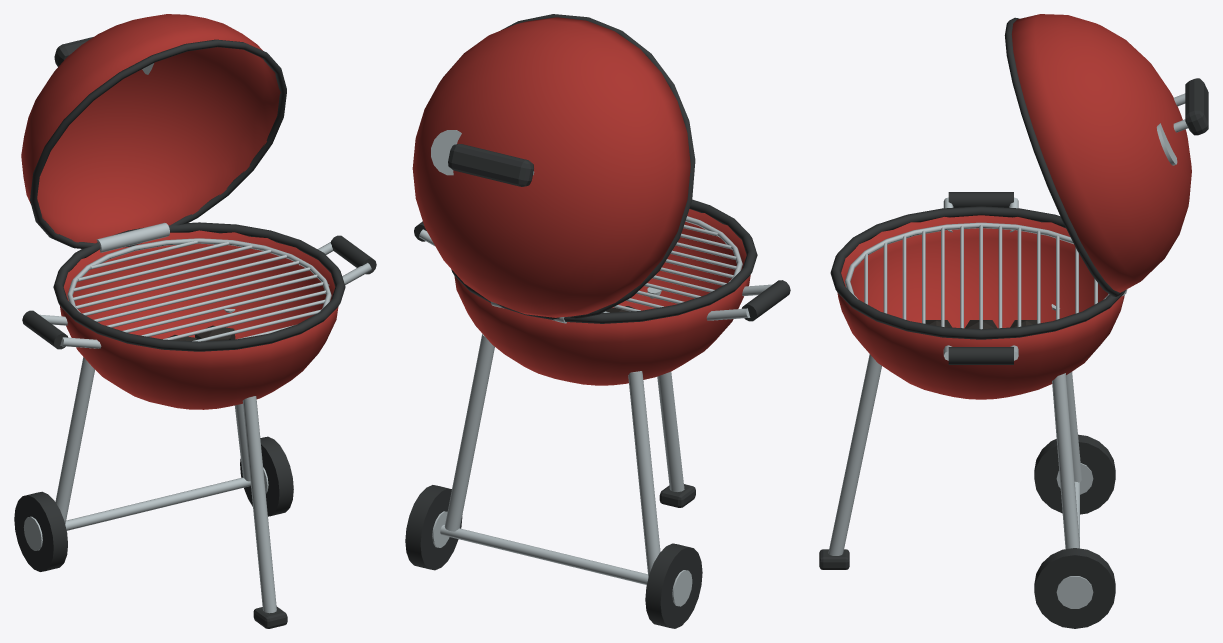
The model's file is outdoor_bbq_grill.glb.
3 renders of one model, left to right at view 1: azimuth 30°, elevation 25°; view 2: azimuth 150°, elevation 25°; view 3: azimuth 270°, elevation 25°, orthographic. The views are drawn at different scales.
Visible parts, largest first — view 1: Separate kettle lid, Kettle lower bowl, Bowl rolled rim, Lid rim, Front support leg, Rear wheel tire, Rear support leg, Wheel axle, Rear wheel tire.001, Cooking grate outer ring, Lid hinge crosspin, Cooking grate bar.006 (+15 smaller); view 2: Separate kettle lid, Kettle lower bowl, Bowl rolled rim, Rear wheel tire, Rear support leg.001, Rear support leg, Rear wheel tire.001, Wheel axle, Insulated lid handle, Lid rim, Front support leg, Insulated side handle (+3 smaller); view 3: Separate kettle lid, Kettle lower bowl, Bowl rolled rim, Rear wheel tire.001, Rear wheel tire, Front support leg, Rear support leg.001, Lid rim, Cooking grate outer ring, Insulated lid handle, Insulated side handle.001, Insulated side handle (+3 smaller).
Boxes of the visible parts, x1,y1,x2,y2 form: Separate kettle lid: (21,14,280,243); Kettle lower bowl: (60,230,338,409); Bowl rolled rim: (53,222,345,351); Lid rim: (30,39,286,248); Front support leg: (242,396,276,613); Rear wheel tire: (14,491,67,571); Rear support leg: (55,357,94,523); Wheel axle: (65,477,250,530); Rear wheel tire.001: (240,436,293,516); Cooking grate outer ring: (67,238,331,312); Lid hinge crosspin: (96,222,169,252); Cooking grate bar.006: (93,267,310,322); Separate kettle lid: (412,17,690,317); Kettle lower bowl: (454,209,750,385); Bowl rolled rim: (451,199,757,323); Rear wheel tire: (645,543,702,628); Rear support leg.001: (444,334,494,531); Rear support leg: (628,371,660,577); Rear wheel tire.001: (405,485,462,570); Wheel axle: (440,524,648,584); Insulated lid handle: (448,144,533,186); Lid rim: (501,14,695,318); Front support leg: (647,287,684,491); Insulated side handle: (741,280,790,321); Separate kettle lid: (1011,14,1191,292); Kettle lower bowl: (837,215,1124,399); Bowl rolled rim: (830,206,1125,339); Rear wheel tire.001: (1034,548,1115,628); Rear wheel tire: (1034,434,1115,514); Front support leg: (828,354,881,555); Rear support leg.001: (1052,373,1079,548); Lid rim: (1004,17,1123,296); Cooking grate outer ring: (845,222,1109,299); Insulated lid handle: (1185,78,1208,135); Insulated side handle.001: (948,347,1013,364); Insulated side handle: (948,192,1013,207).
Size of the model in its own units: 0.944 by 1.46 by 0.9556.
